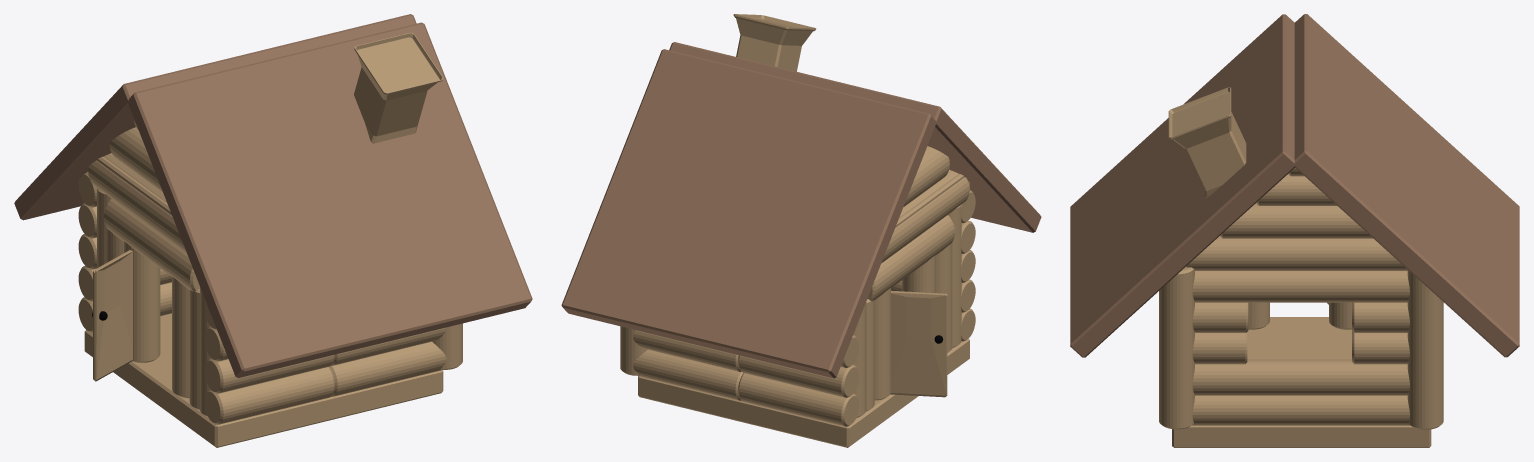
Rendered from Cabin.fbx.
The picture shows the model from 3 angles, left to right: view 1: azimuth 30°, elevation 25°; view 2: azimuth 150°, elevation 25°; view 3: azimuth 270°, elevation 25°; orthographic projection. The views are drawn at different scales.
Parts seen in each view (by area): view 1: Cabin; view 2: Cabin; view 3: Cabin.
Part boxes in pixels (left/top/right/bottom): Cabin: left=14, top=14, right=532, bottom=447; Cabin: left=561, top=14, right=1041, bottom=447; Cabin: left=1070, top=14, right=1519, bottom=447.
Bounding box in the file's own units: 5586 × 5775 × 7052.
